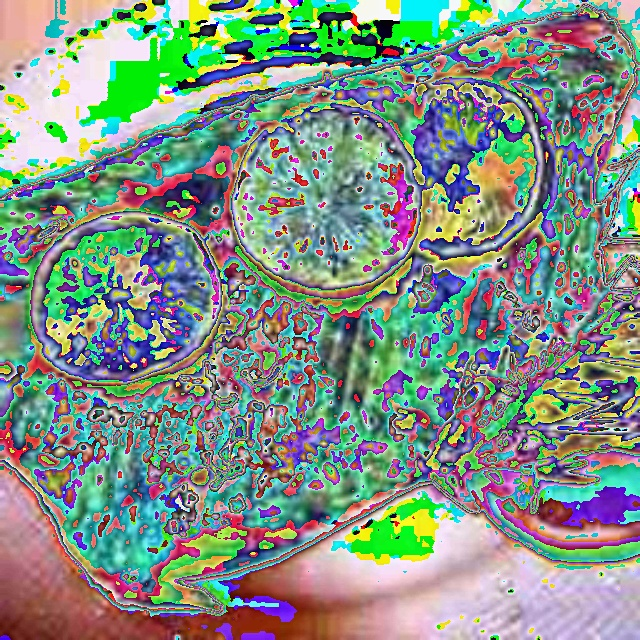background: (0, 3, 640, 612)
